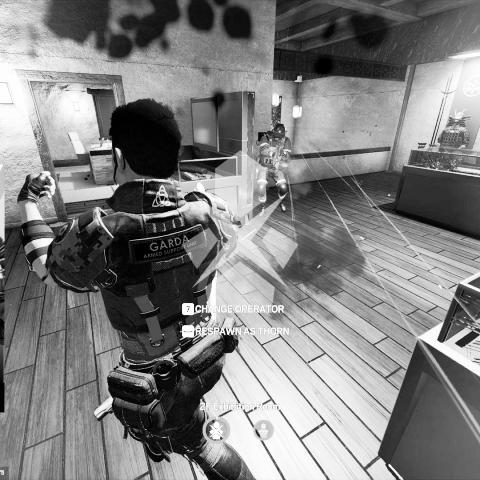Character: (16, 97, 260, 480), (254, 122, 294, 218)
Head: (110, 99, 184, 198), (272, 123, 286, 141)
